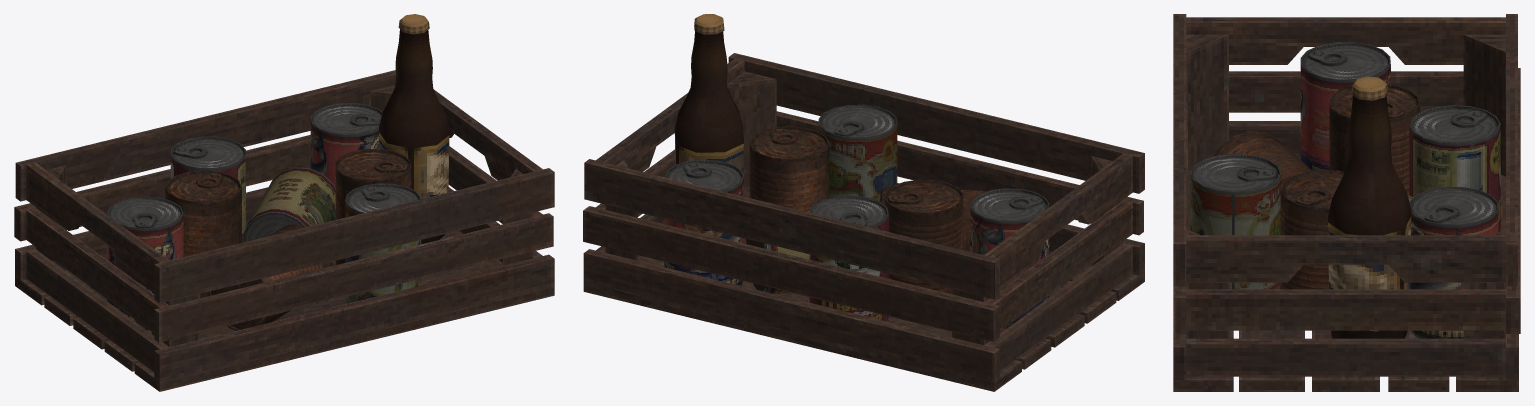
File: supply_crate_1_2.glb
3 renders of one model, left to right at view 1: azimuth 30°, elevation 25°; view 2: azimuth 150°, elevation 25°; view 3: azimuth 270°, elevation 25°, orthographic. The views are drawn at different scales.
Parts seen in each view (by area): view 1: supply_crate_1_2; view 2: supply_crate_1_2; view 3: supply_crate_1_2.
Boxes of the visible parts, left/top/right/bottom form: supply_crate_1_2: left=14, top=14, right=554, bottom=391; supply_crate_1_2: left=583, top=14, right=1144, bottom=391; supply_crate_1_2: left=1173, top=14, right=1520, bottom=391.
Bounding box in the file's own units: 0.668 × 0.3725 × 0.4262.
3 materials, 3 textured.
